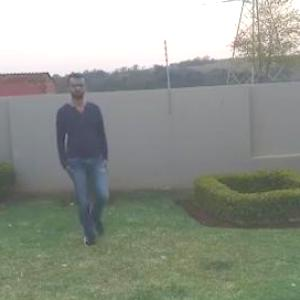follow: (55, 71, 113, 247)
